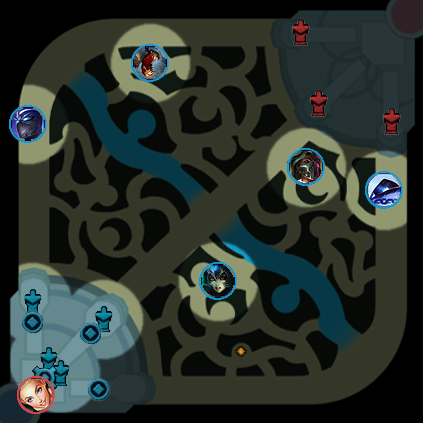Fiddlesticks: (131, 44, 169, 82)
Lux: (17, 376, 55, 414)
Nami: (199, 262, 237, 300)
Renata: (287, 148, 325, 186)
Shen: (9, 105, 47, 143)
Xerath: (365, 171, 403, 209)
